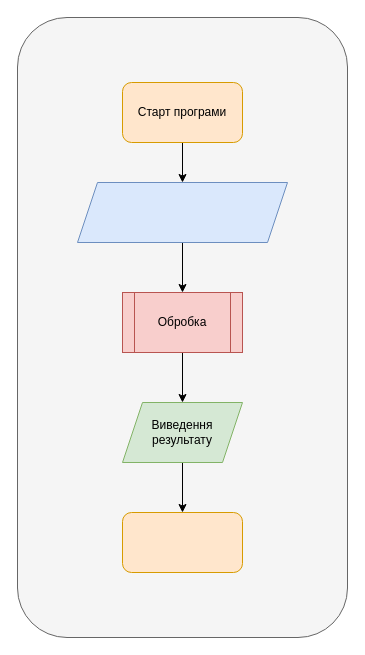
Image size: 365x655. Some labels were removed from this diagram. The shapes that lost their labels are listed below. From the top down, each one's box as (x1, y1, x2, y2) in pixels, then its label:
(76, 182, 288, 242): Отримання вхідних даних
(122, 512, 242, 572): Кінець програми
